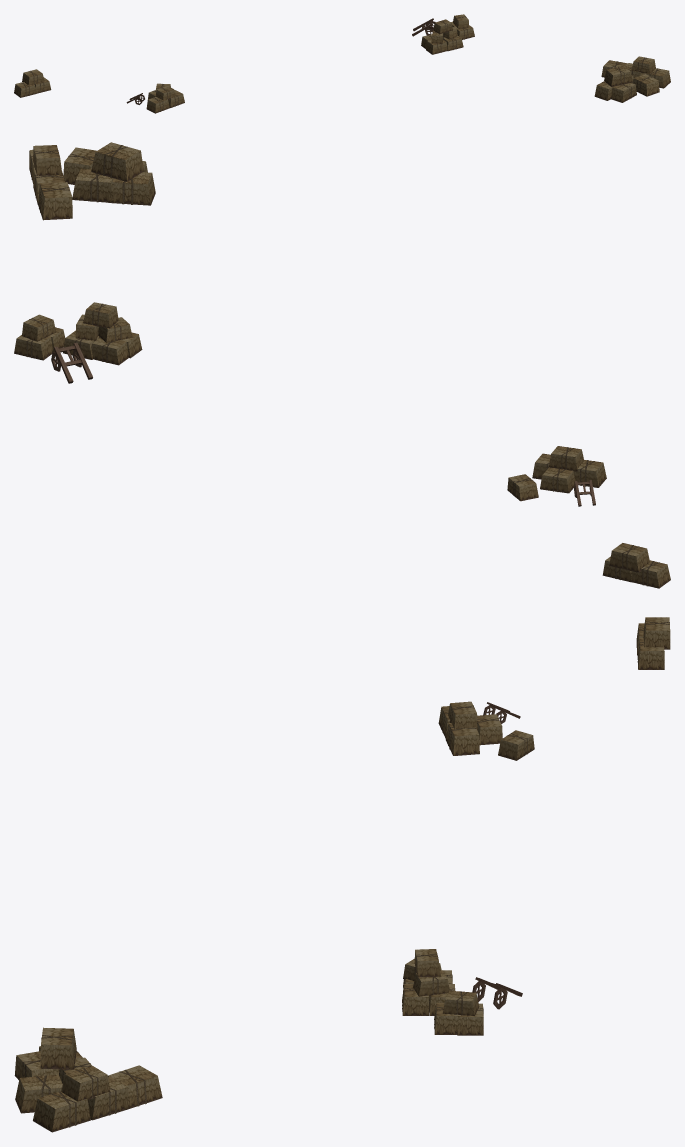
Rendered from xiaowujian01.fbx.
3 renders of one model, top to bottom at view 1: azimuth 30°, elevation 25°; view 2: azimuth 150°, elevation 25°; view 3: azimuth 270°, elevation 25°, orthographic. The views are drawn at different scales.
Parts seen in each view (by area): view 1: xiaowujian01; view 2: xiaowujian01; view 3: xiaowujian01.
Boxes of the visible parts, x1,y1,x2,y2 form: xiaowujian01: (14, 14, 670, 113); xiaowujian01: (14, 142, 670, 588); xiaowujian01: (14, 617, 670, 1132).
Bounding box in the file's own units: 7954 × 372 × 4476.
